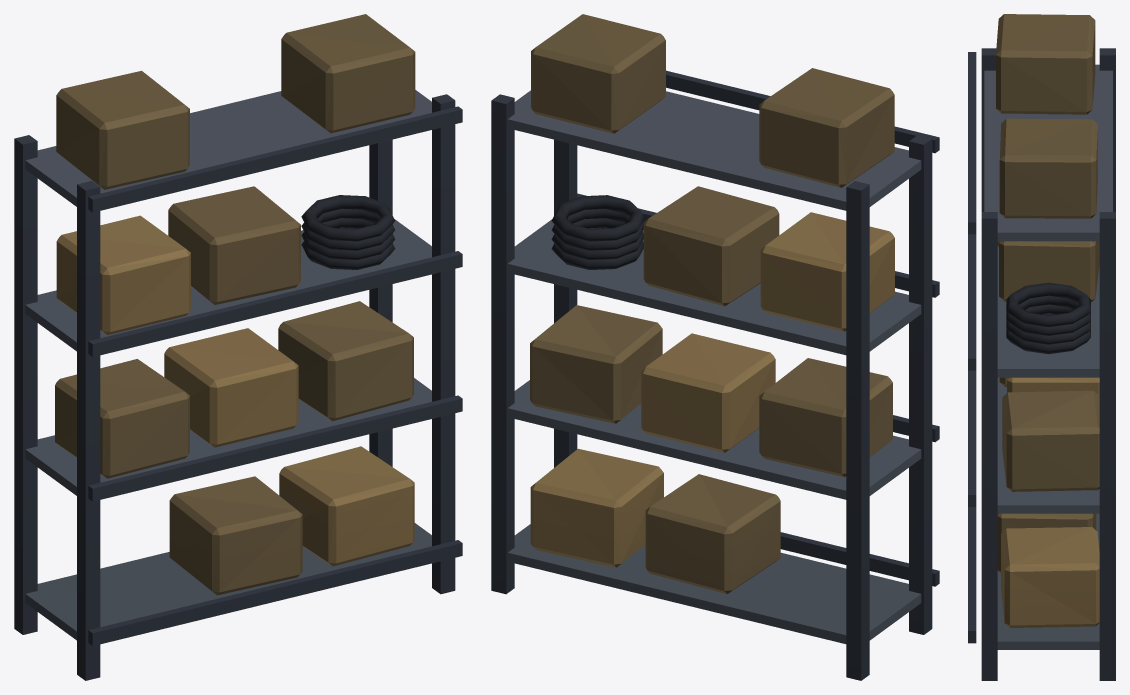
File: shelf_rack.glb
3 renders of one model, left to right at view 1: azimuth 30°, elevation 25°; view 2: azimuth 150°, elevation 25°; view 3: azimuth 270°, elevation 25°, orthographic. The views are drawn at different scales.
Visible parts, largest first — view 1: shelf_rack; view 2: shelf_rack; view 3: shelf_rack.
Boxes of the visible parts, x1=… form: shelf_rack: x1=14, y1=14, x2=462, y2=680; shelf_rack: x1=491, y1=14, x2=939, y2=680; shelf_rack: x1=968, y1=14, x2=1115, y2=680.
Size of the model in its own units: 1.5 by 2.1 by 0.55.
